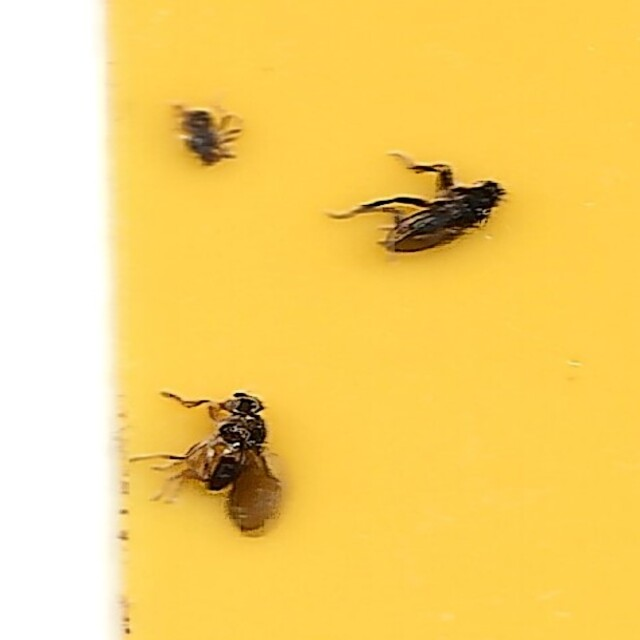Brachycera: (135, 387, 291, 535), (340, 157, 505, 254), (177, 105, 244, 166)
